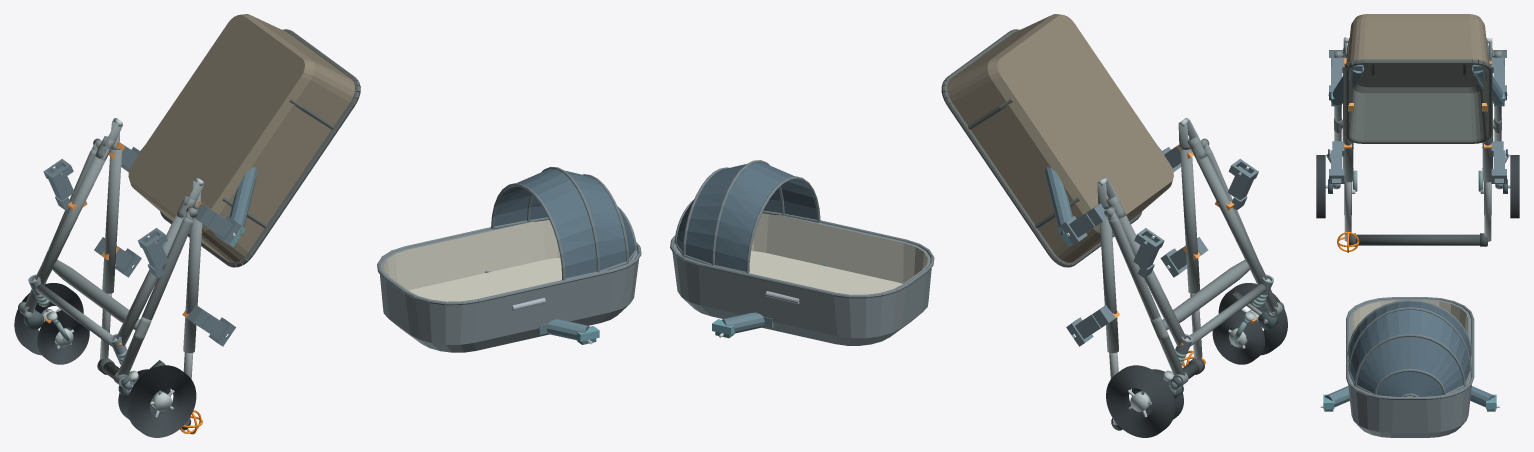
Rendered from D15_w550_state3_wheel_S.glb.
3 renders of one model, left to right at view 1: azimuth 30°, elevation 25°; view 2: azimuth 150°, elevation 25°; view 3: azimuth 270°, elevation 25°, orthographic. The views are drawn at different scales.
Visible parts, largest first — view 1: D15_Upper, D15_Lower, RL_tire.004, main_upper_1.005, main_lower_1.005, FR_tire.004, V46_rear_leg_-1.005, main_upper_-1.005, V46_rearbar.005, main_lower_-1.005, RR_tire.004, D15_Lower_Mount_M (+8 smaller); view 2: D15_Upper, D15_Lower, RR_tire.004, main_upper_-1.005, main_lower_-1.005, FL_tire.004, V46_rear_leg_1.005, main_upper_1.005, V46_rearbar.005, main_lower_1.005, RL_tire.004, D15_Lower_Mount_M (+8 smaller); view 3: D15_Lower, D15_Upper, round_handle.004, D15_Lower_Mount_M, D15_Upper_Mount_H, RL_tire.004, RR_tire.004, Universal_Cabin_Receiver_H_1, Universal_Cabin_Receiver_H_-1, handle_slider_1.004, main_upper_1.005, main_upper_-1.005 (+4 smaller).
Part boxes in pixels (left/top/right/bottom): D15_Upper: left=377, top=167, right=641, bottom=352; D15_Lower: left=128, top=14, right=360, bottom=267; RL_tire.004: left=127, top=365, right=196, bottom=437; main_upper_1.005: left=102, top=149, right=121, bottom=293; main_lower_1.005: left=35, top=149, right=109, bottom=285; FR_tire.004: left=37, top=310, right=89, bottom=364; V46_rear_leg_-1.005: left=117, top=217, right=193, bottom=375; main_upper_-1.005: left=183, top=209, right=202, bottom=353; V46_rearbar.005: left=52, top=259, right=139, bottom=330; main_lower_-1.005: left=116, top=213, right=186, bottom=346; RR_tire.004: left=14, top=283, right=83, bottom=355; D15_Lower_Mount_M: left=140, top=147, right=257, bottom=246; D15_Upper: left=670, top=160, right=934, bottom=345; D15_Lower: left=941, top=14, right=1173, bottom=267; RR_tire.004: left=1106, top=365, right=1175, bottom=437; main_upper_-1.005: left=1180, top=149, right=1199, bottom=293; main_lower_-1.005: left=1193, top=149, right=1267, bottom=284; FL_tire.004: left=1212, top=310, right=1264, bottom=364; V46_rear_leg_1.005: left=1108, top=217, right=1185, bottom=375; main_upper_1.005: left=1100, top=209, right=1118, bottom=353; V46_rearbar.005: left=1162, top=260, right=1249, bottom=329; main_lower_1.005: left=1116, top=213, right=1186, bottom=346; RL_tire.004: left=1218, top=283, right=1287, bottom=355; D15_Lower_Mount_M: left=1045, top=147, right=1162, bottom=246; D15_Lower: left=1343, top=14, right=1492, bottom=143; D15_Upper: left=1346, top=297, right=1474, bottom=437; round_handle.004: left=1356, top=234, right=1487, bottom=245; D15_Lower_Mount_M: left=1328, top=65, right=1507, bottom=106; D15_Upper_Mount_H: left=1320, top=386, right=1499, bottom=411; RL_tire.004: left=1316, top=155, right=1325, bottom=218; RR_tire.004: left=1510, top=155, right=1519, bottom=218; Universal_Cabin_Receiver_H_1: left=1491, top=141, right=1506, bottom=183; Universal_Cabin_Receiver_H_-1: left=1329, top=141, right=1344, bottom=183; handle_slider_1.004: left=1484, top=182, right=1491, bottom=241; main_upper_1.005: left=1482, top=66, right=1492, bottom=182; main_upper_-1.005: left=1343, top=66, right=1353, bottom=182.
Size of the model in its own units: 1.73 by 1.01 by 0.641.
